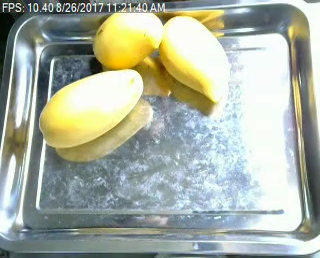Mango: (38, 67, 143, 148), (159, 15, 227, 101), (91, 8, 166, 68)
